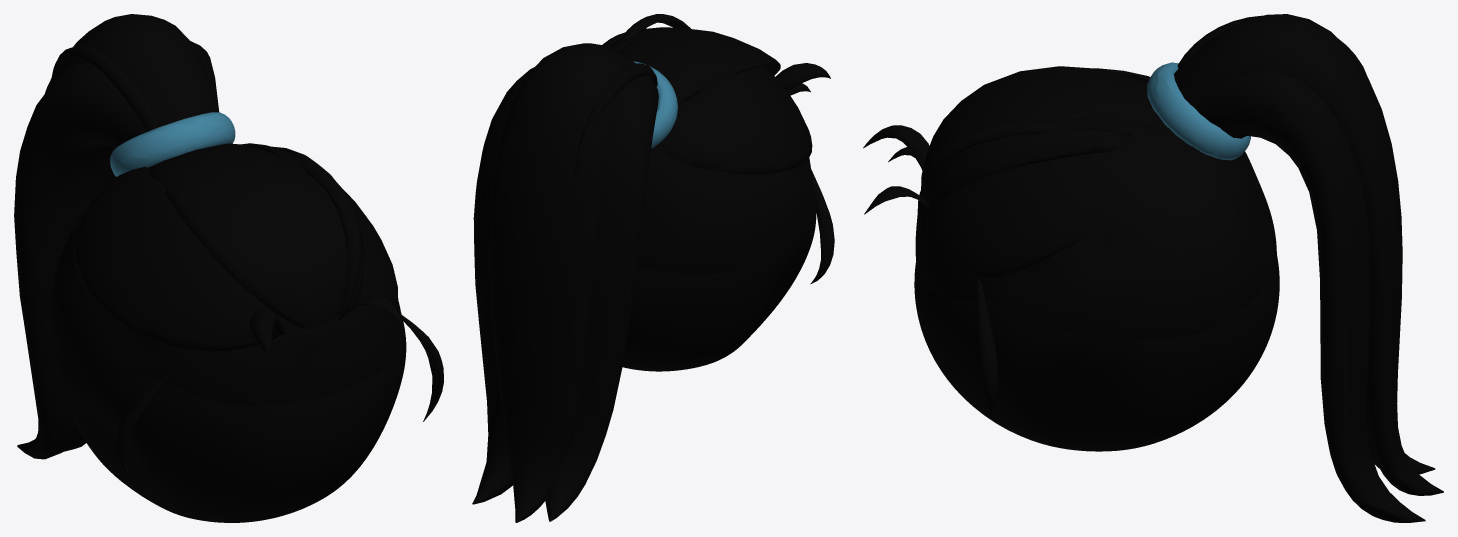
File: Eve_Zopf_Glatt_ohnePony_LOW.fbx
3 views of the same model, side by side, from view 1: azimuth 30°, elevation 25°; view 2: azimuth 150°, elevation 25°; view 3: azimuth 270°, elevation 25° (orthographic). The views are drawn at different scales.
Visible parts, largest first — view 1: NurbsPath.026, Dutt.004, Torus.001; view 2: NurbsPath.026, Dutt.004, Torus.001; view 3: NurbsPath.026, Dutt.004, Torus.001.
Part boxes in pixels (x1=…): NurbsPath.026: x1=14, y1=14, x2=443, y2=479; Dutt.004: x1=51, y1=143, x2=406, y2=522; Torus.001: x1=110, y1=112, x2=235, y2=176; NurbsPath.026: x1=472, y1=14, x2=834, y2=522; Dutt.004: x1=622, y1=100, x2=816, y2=371; Torus.001: x1=633, y1=61, x2=677, y2=148; NurbsPath.026: x1=863, y1=14, x2=1443, y2=522; Dutt.004: x1=914, y1=105, x2=1279, y2=451; Torus.001: x1=1147, y1=62, x2=1250, y2=160.
Bounding box in the file's own units: 238 × 348 × 382.
